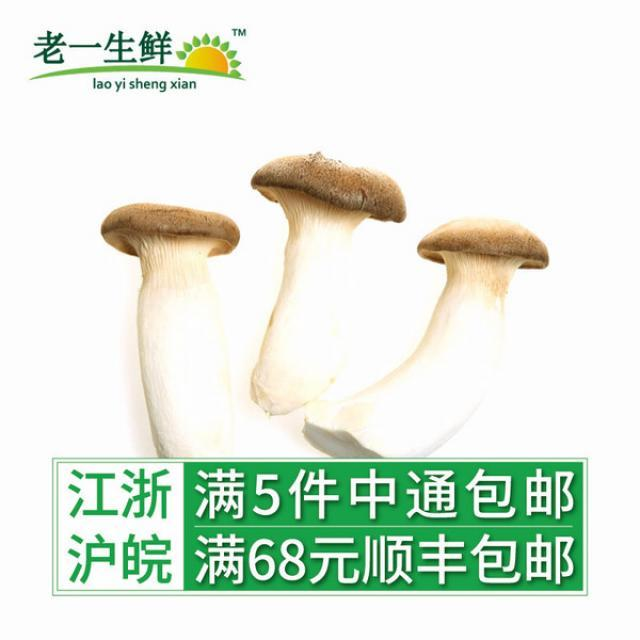Pleurotus eryngii: (296, 220, 550, 458), (250, 158, 408, 410), (103, 201, 243, 453)
